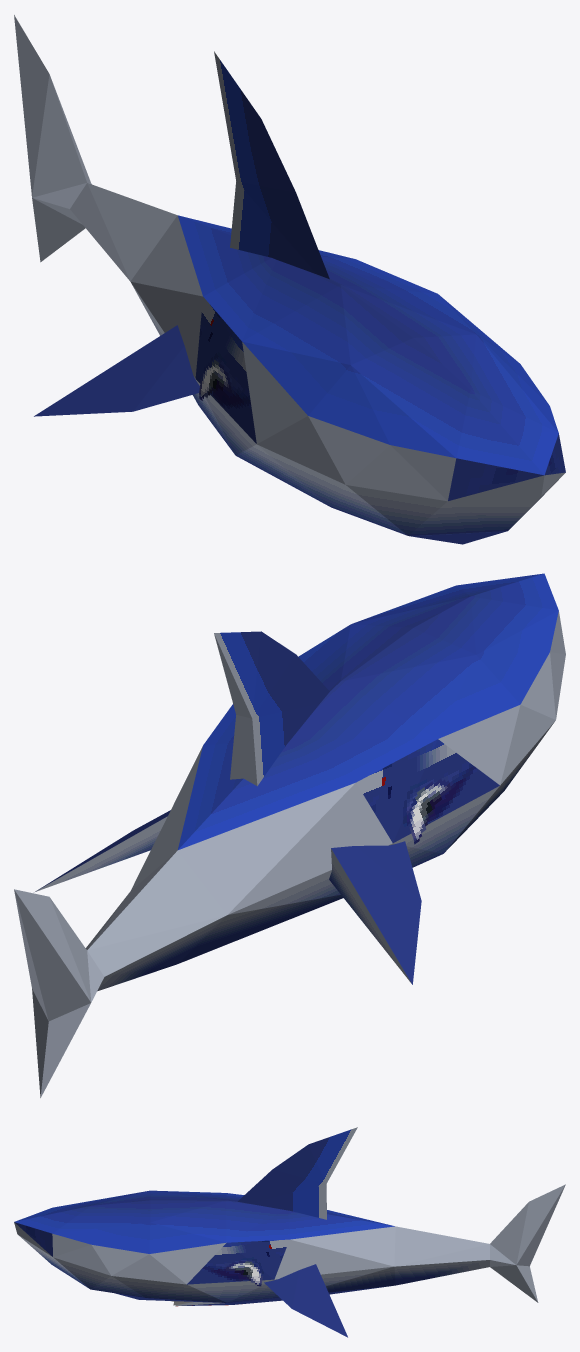
Rendered from hojiro.obj.
The picture shows the model from 3 angles, top to bottom: view 1: azimuth 30°, elevation 25°; view 2: azimuth 150°, elevation 25°; view 3: azimuth 270°, elevation 25°; orthographic projection. The views are drawn at different scales.
Parts seen in each view (by area): view 1: skl_root, head, waist, tail02, tail01; view 2: skl_root, head, waist, tail02, tail01; view 3: skl_root, head, waist, tail02.
Boxes of the visible parts, box(x1,y1,x2,y2) form: skl_root: box(14, 15, 558, 535); head: box(130, 258, 565, 544); waist: box(34, 51, 436, 416); tail02: box(32, 74, 91, 262); tail01: box(87, 183, 198, 404); skl_root: box(14, 585, 565, 1097); head: box(228, 573, 565, 914); waist: box(34, 631, 421, 984); tail02: box(14, 890, 226, 1097); tail01: box(87, 843, 392, 950); skl_root: box(18, 1144, 565, 1308); head: box(14, 1190, 393, 1305); waist: box(227, 1127, 357, 1337); tail02: box(394, 1184, 565, 1302).
Size of the model in its own units: 27.46 by 24.11 by 66.51.
3 materials, 3 textured.
